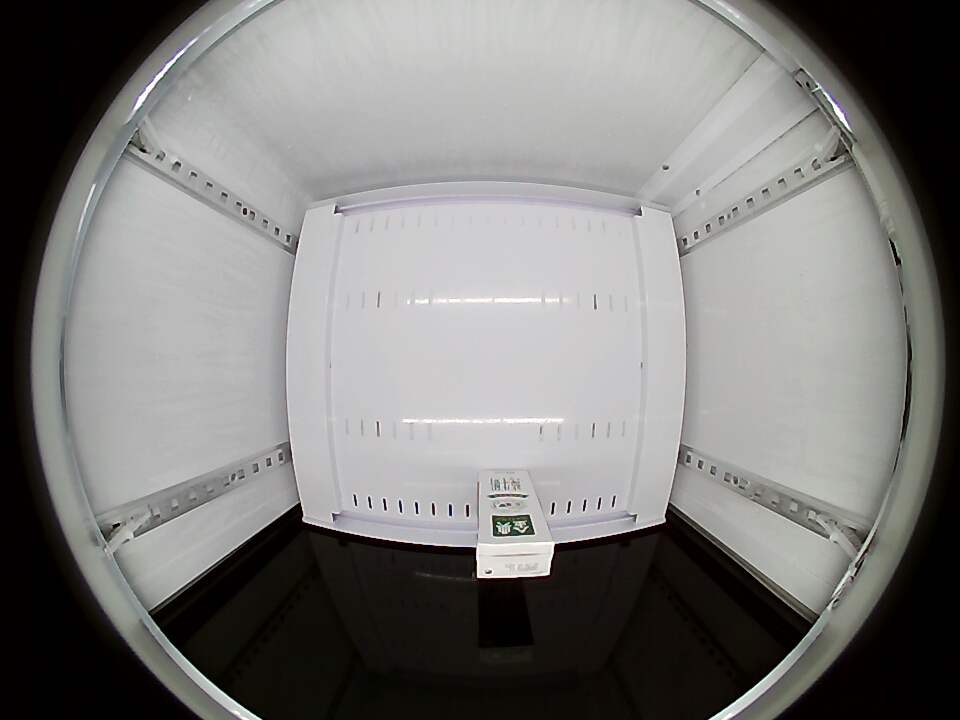jindian: (475, 520, 556, 579)
